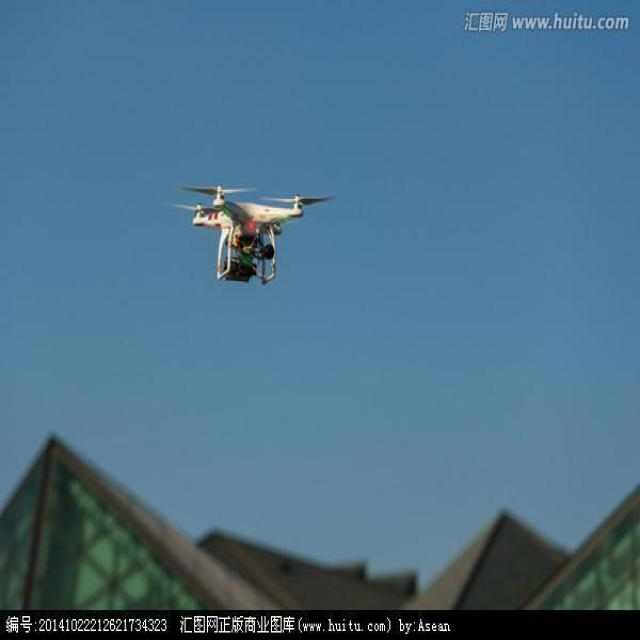drone: (168, 181, 336, 286)
